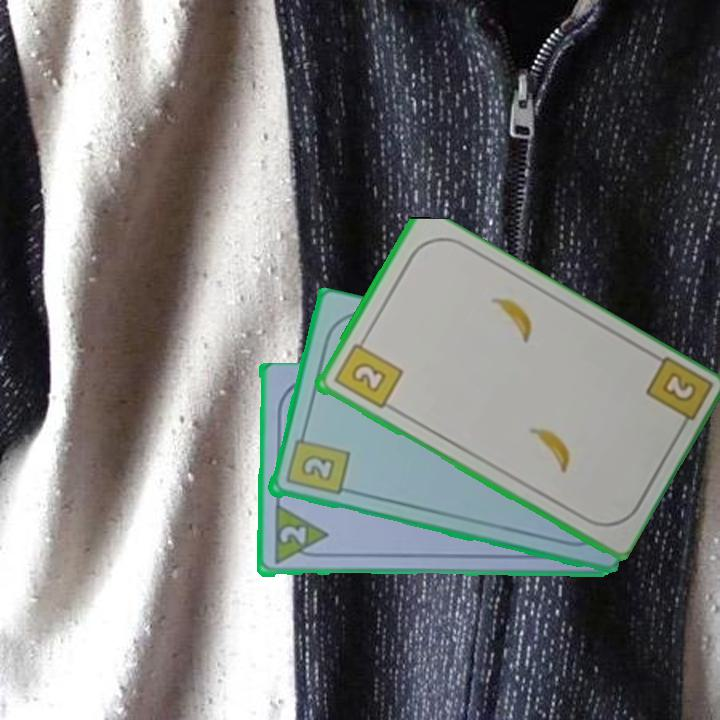2b: (329, 333, 405, 412), (282, 427, 351, 498), (658, 368, 699, 406)
2p: (275, 523, 310, 548)
